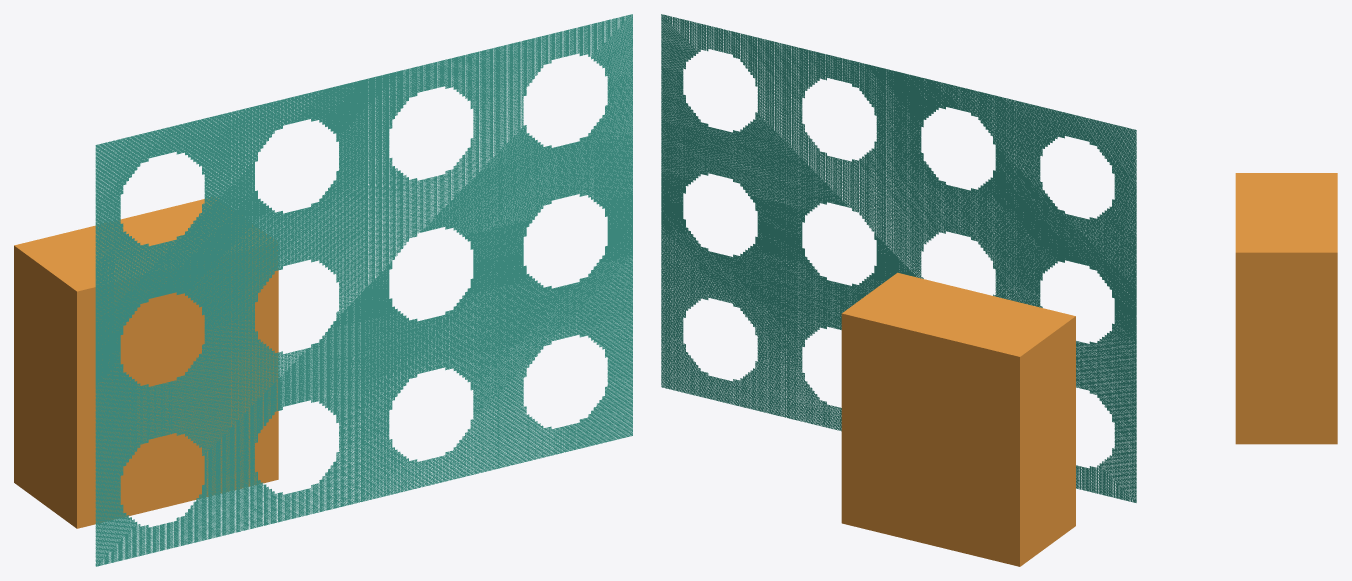
File: MaskPanel.glb
3 views of the same model, side by side, from view 1: azimuth 30°, elevation 25°; view 2: azimuth 150°, elevation 25°; view 3: azimuth 270°, elevation 25° (orthographic). The views are drawn at different scales.
Visible parts, largest first — view 1: Perforated panel, Block behind panel; view 2: Perforated panel, Block behind panel; view 3: Block behind panel.
Part boxes in pixels (x1,y1,x2,y2): Perforated panel: [95, 14, 632, 566]; Block behind panel: [14, 197, 278, 528]; Perforated panel: [661, 14, 1136, 502]; Block behind panel: [841, 272, 1075, 566]; Block behind panel: [1235, 173, 1337, 444].
Bounding box in the file's own units: 3.2 × 2.4 × 1.1.
2 materials, 1 textured.
